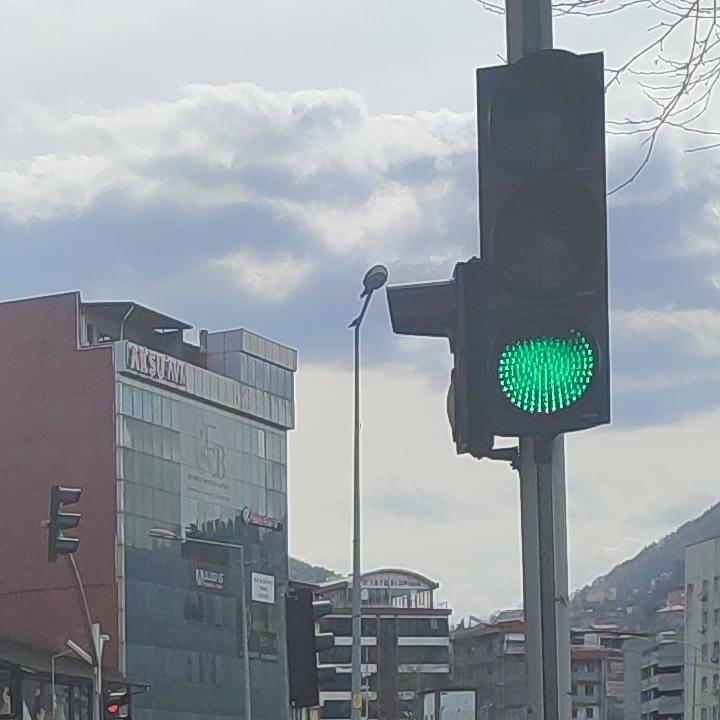green: (470, 48, 606, 439)
